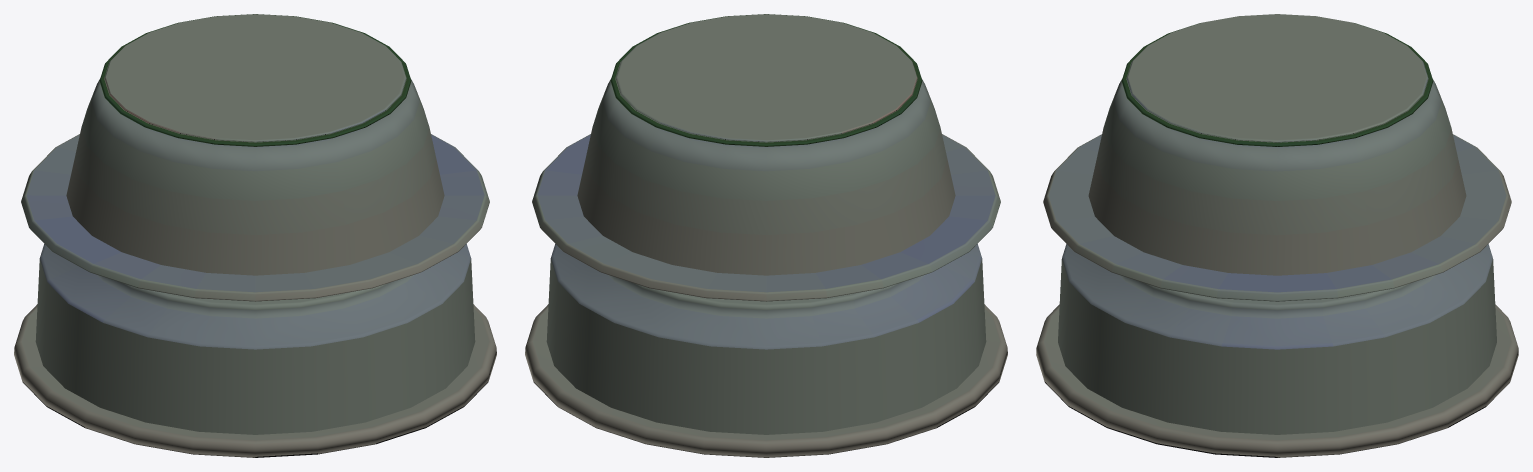
File: Tile_Top_Pl.fbx
3 views of the same model, side by side, from view 1: azimuth 30°, elevation 25°; view 2: azimuth 150°, elevation 25°; view 3: azimuth 270°, elevation 25° (orthographic).
Parts seen in each view (by area): view 1: Tile_Top_Pl, Tile_Bot_Pl; view 2: Tile_Top_Pl, Tile_Bot_Pl; view 3: Tile_Top_Pl, Tile_Bot_Pl.
Part boxes in pixels (box(x1,y1,x2,y2)): Tile_Top_Pl: box(21, 14, 489, 301); Tile_Bot_Pl: box(14, 244, 496, 457); Tile_Top_Pl: box(532, 14, 1000, 301); Tile_Bot_Pl: box(525, 244, 1007, 457); Tile_Top_Pl: box(1043, 14, 1511, 301); Tile_Bot_Pl: box(1036, 244, 1518, 457).
Size of the model in its own units: 134 by 85.74 by 134.
